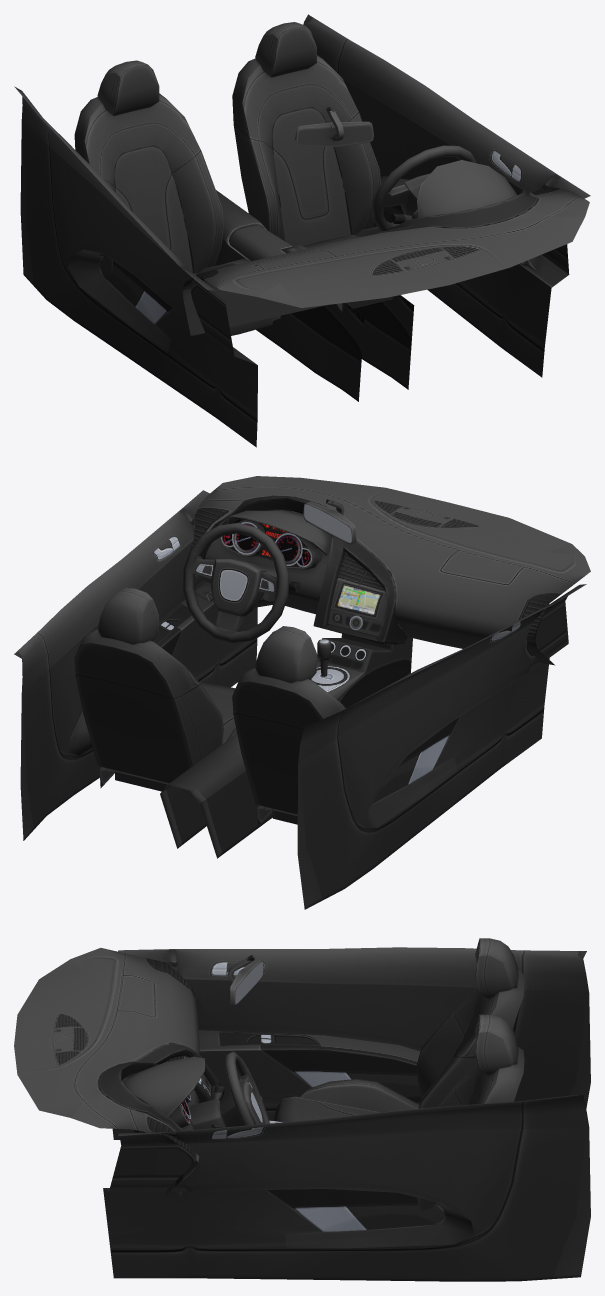
File: Car_10_Interior.FBX
3 renders of one model, top to bottom at view 1: azimuth 30°, elevation 25°; view 2: azimuth 150°, elevation 25°; view 3: azimuth 270°, elevation 25°, orthographic.
Visible parts, largest first — view 1: Car_10_Interior_A; view 2: Car_10_Interior_A; view 3: Car_10_Interior_A.
Part boxes in pixels (<box>): Car_10_Interior_A: <box>14,14,590,447</box>; Car_10_Interior_A: <box>14,476,590,909</box>; Car_10_Interior_A: <box>14,938,590,1281</box>.
Size of the model in its own units: 1.52 by 1.99 by 0.9723.
